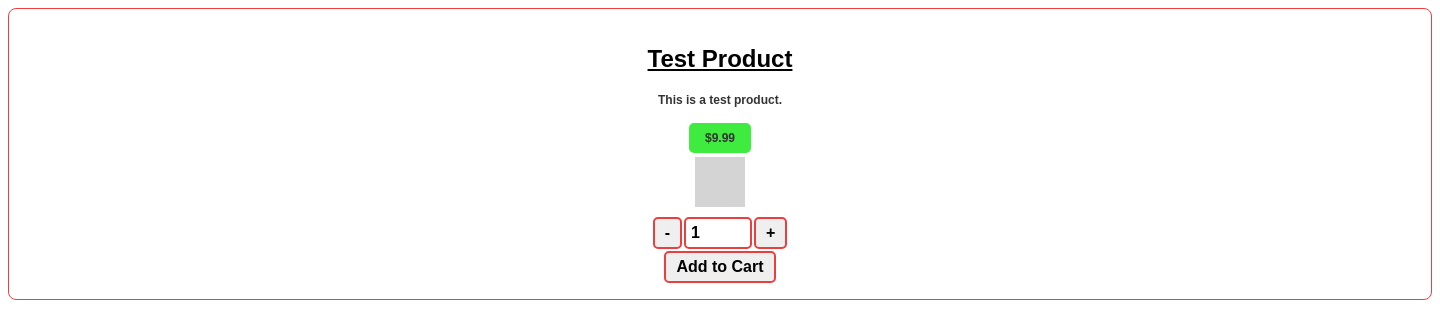
Card › handles manual input correctly
// Valid input
Step 1. Replace the text in the number field with "5" → (718, 233), box [684,217,752,249]
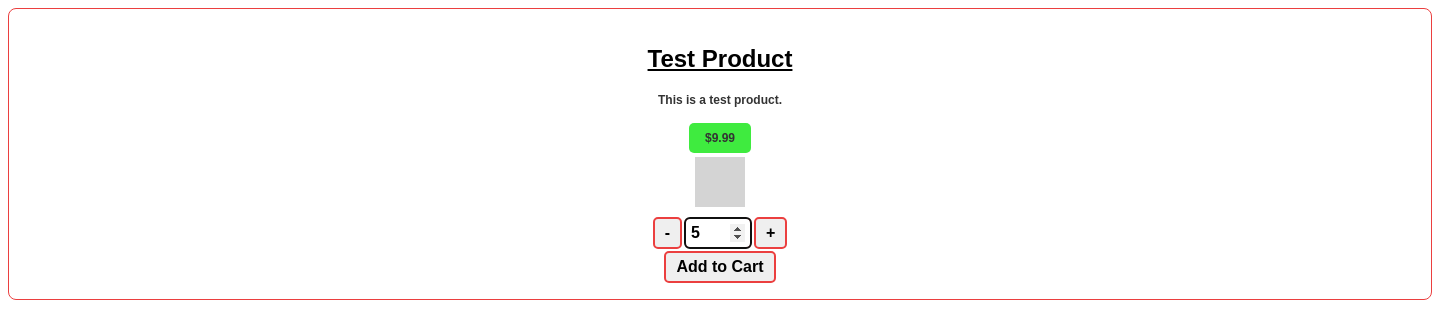
// Invalid input (greater than 10)
Step 2. Replace the text in the number field with "15" → (718, 233), box [684,217,752,249]
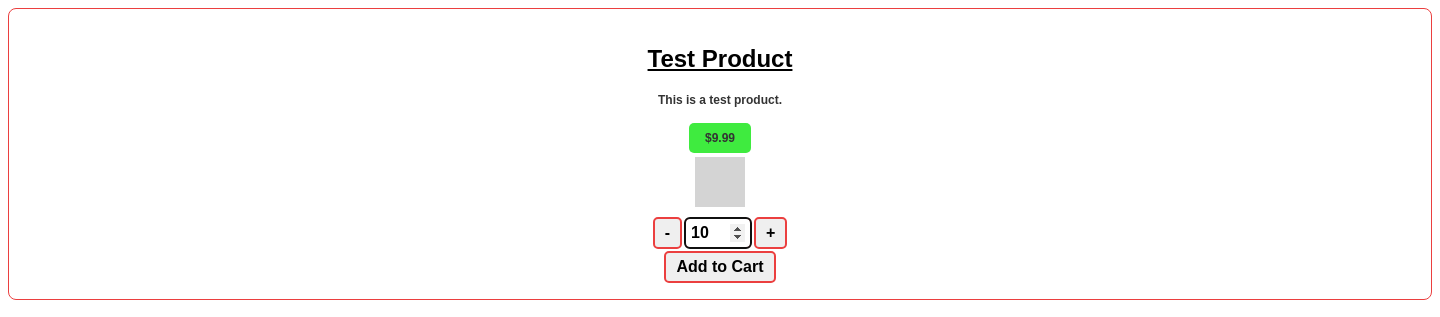
Check: the number field holds "10"
// Invalid input (less than 1)
Step 3. Replace the text in the number field with "0" → (718, 233), box [684,217,752,249]
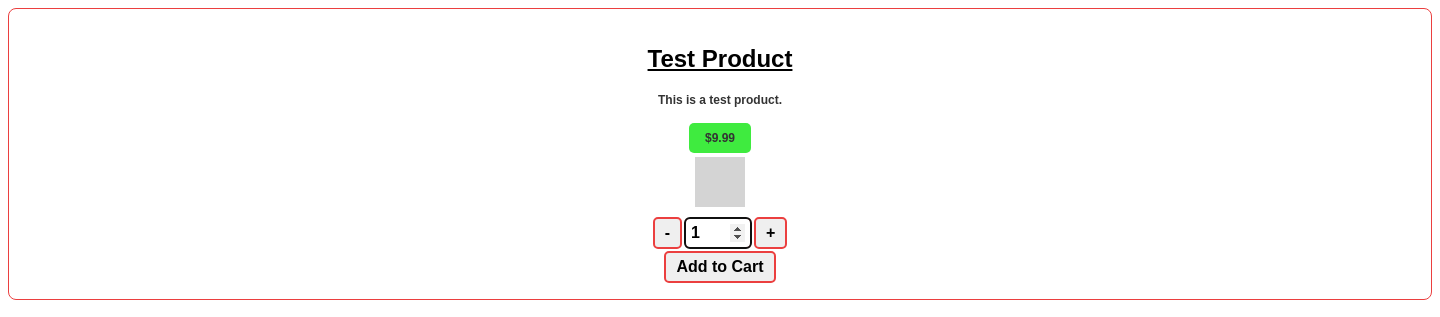
Check: the number field holds "1"
// Empty input should reset to 1 on blur
Step 4. Clear the number field → (718, 233), box [684,217,752,249]
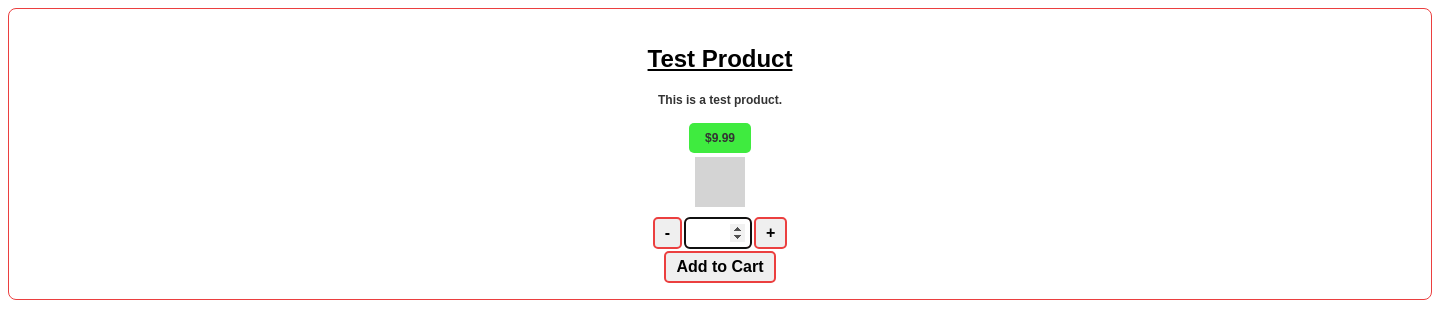
Step 5. Press Tab
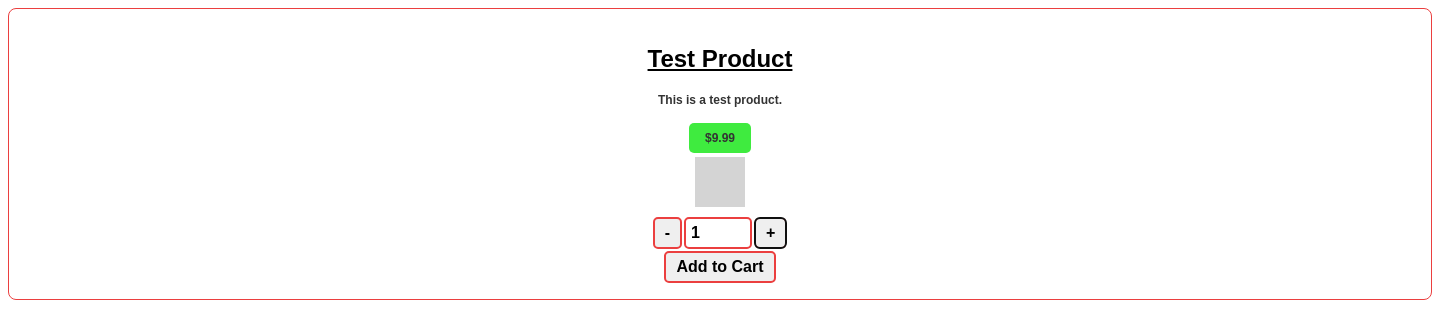
Check: the number field holds "1", box [684,217,752,249]
